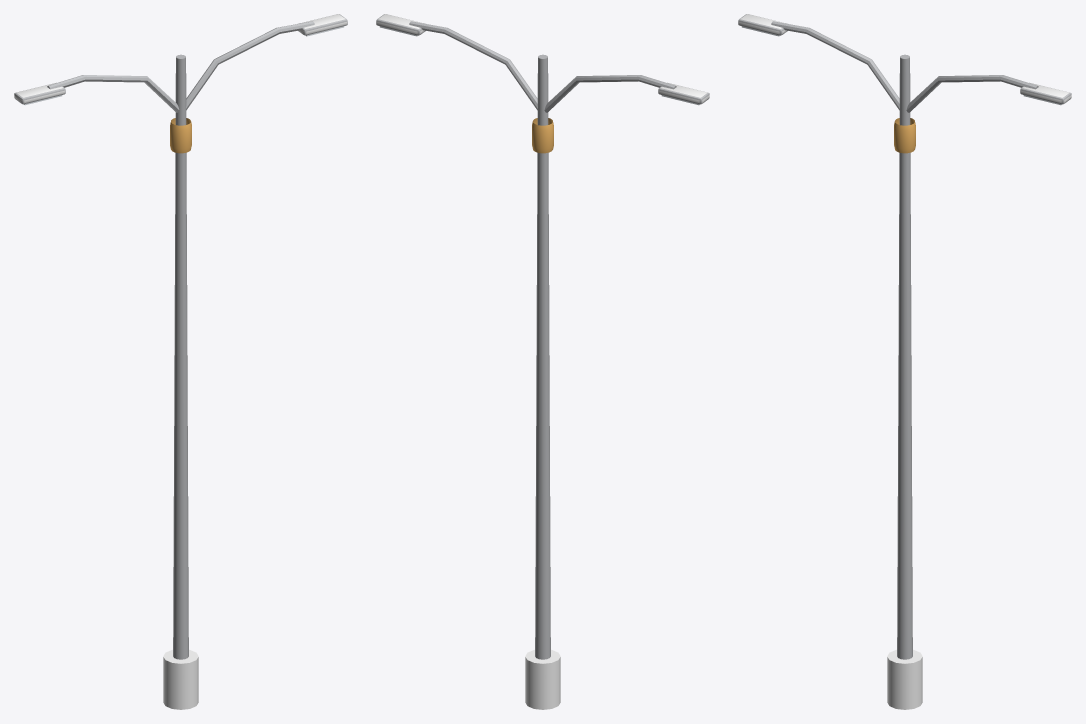
File: SM_StreetLight_KFR.fbx
3 renders of one model, left to right at view 1: azimuth 30°, elevation 25°; view 2: azimuth 150°, elevation 25°; view 3: azimuth 330°, elevation 25°, orthographic.
Parts seen in each view (by area): view 1: SM_StreetLight_KFR; view 2: SM_StreetLight_KFR; view 3: SM_StreetLight_KFR.
Part boxes in pixels (x1=…): SM_StreetLight_KFR: x1=14, y1=14, x2=347, y2=709; SM_StreetLight_KFR: x1=376, y1=14, x2=709, y2=709; SM_StreetLight_KFR: x1=738, y1=14, x2=1071, y2=709.
Size of the model in its own units: 740 by 1412 by 70.
